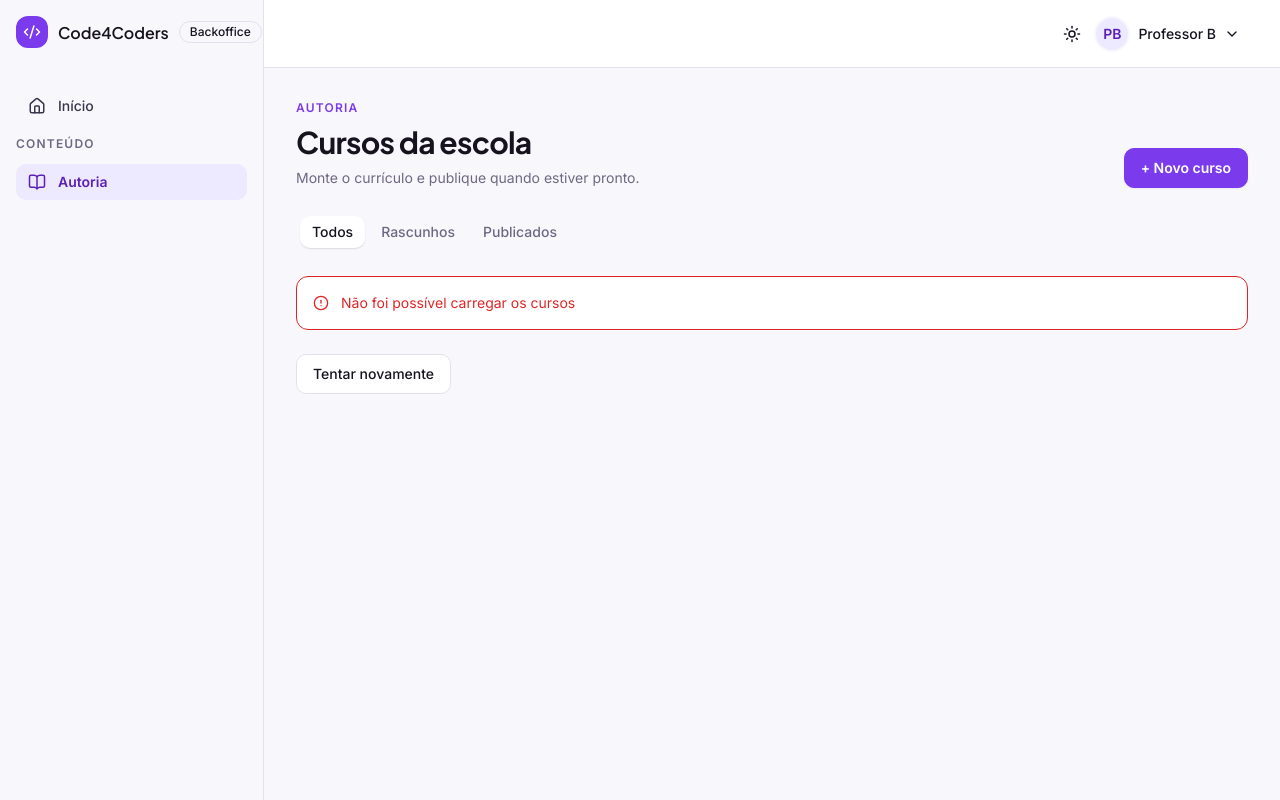
authoring courses › shows a new-school empty state and retries a list failure
This screenshot has width=1280, height=800.
Expected: the heading "Não foi possível carregar os cursos" is shown, 341,293 -> 575,313
Click the button "Tentar novamente" at (374, 374), box 296,354 -> 451,394
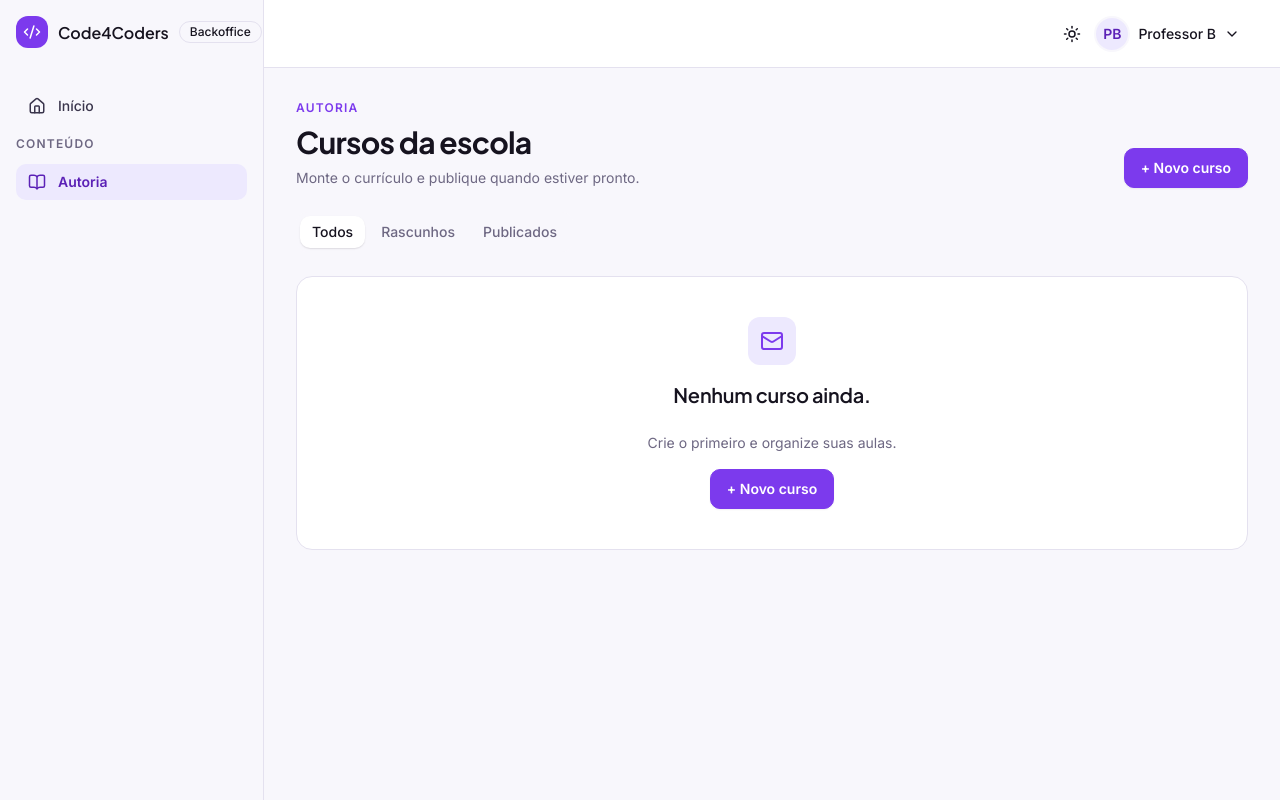
Result: the heading "Nenhum curso ainda." is shown at 673,381 -> 871,409
Click the button "+ Novo curso" below "Crie o primeiro e organize suas aulas." at (772, 489), box 710,469 -> 834,509
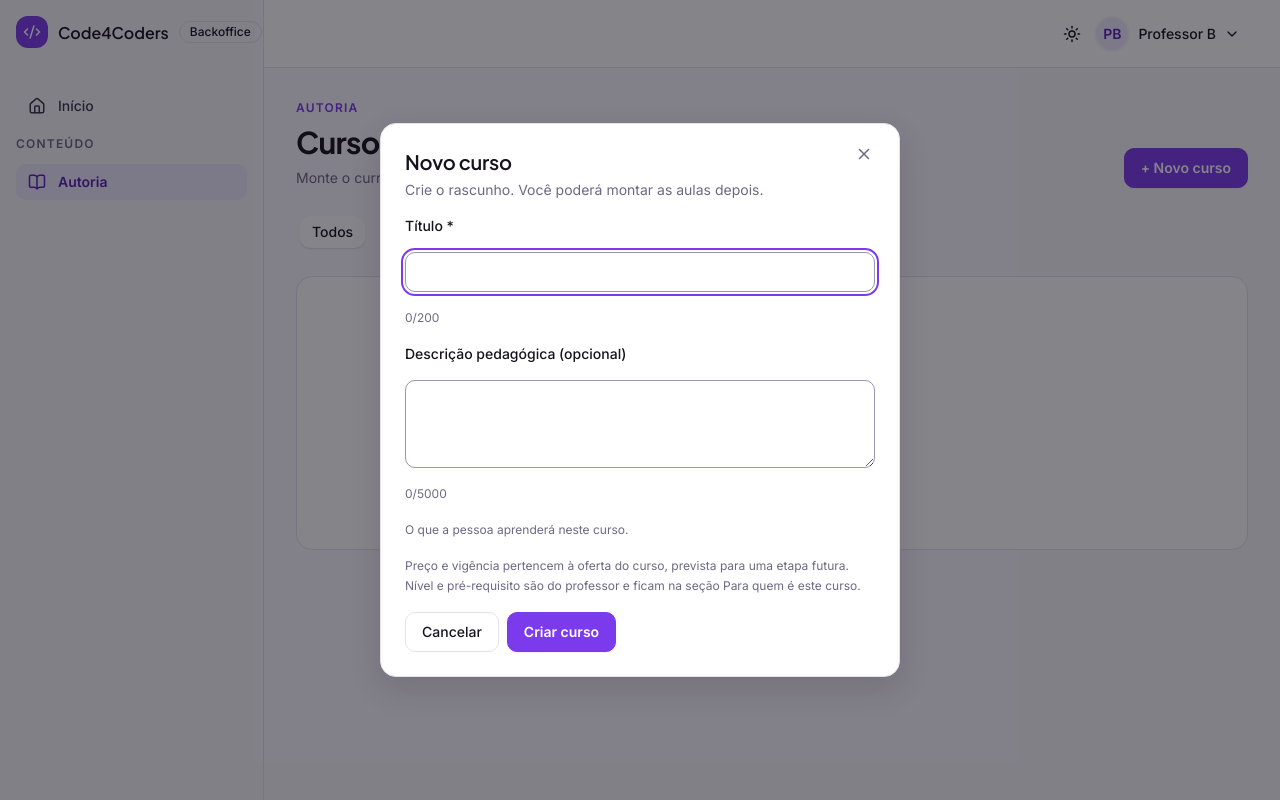
Result: the dialog "Novo curso" is shown at 380,123 -> 900,677
